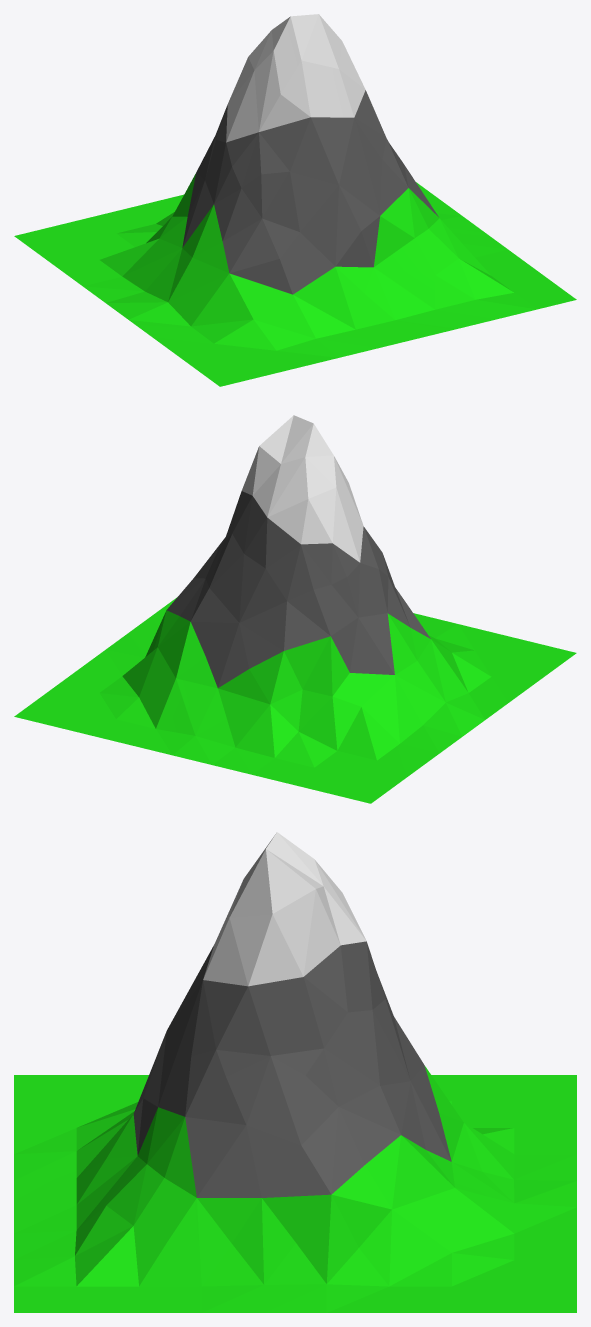
File: Mountain3.fbx
3 views of the same model, one above another, from view 1: azimuth 30°, elevation 25°; view 2: azimuth 150°, elevation 25°; view 3: azimuth 270°, elevation 25° (orthographic). The views are drawn at different scales.
Visible parts, largest first — view 1: Mountain3; view 2: Mountain3; view 3: Mountain3.
Part boxes in pixels (x1,y1,x2,y2): Mountain3: [14, 14, 576, 386]; Mountain3: [14, 415, 576, 803]; Mountain3: [14, 832, 576, 1312].
Bounding box in the file's own units: 6000 × 4166 × 6000.
